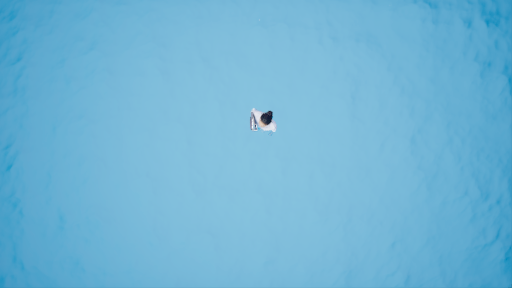person: (246, 108, 279, 137)
